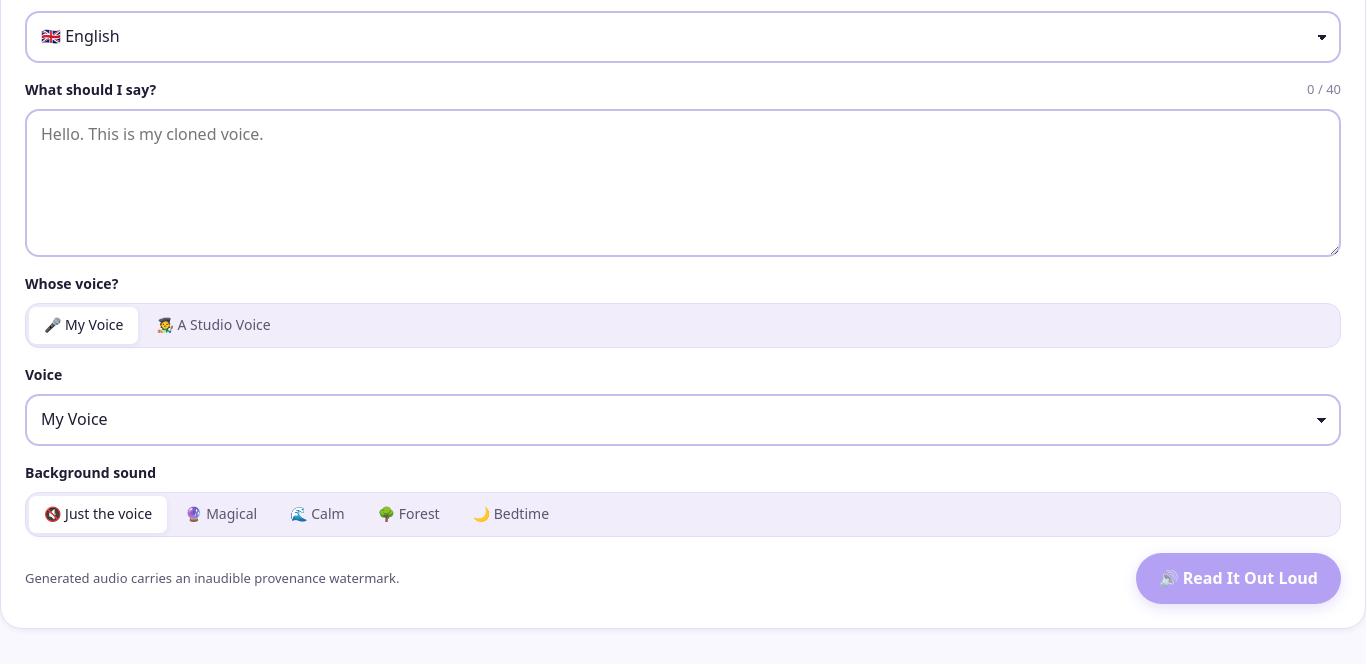
Test: GenerateForm › generates speech and shows the result with a download link
The width and height of the screenshot is (1366, 664).
Type "Hello there." into the text box with test id "text-input" at (683, 183), box [25, 109, 1341, 257]
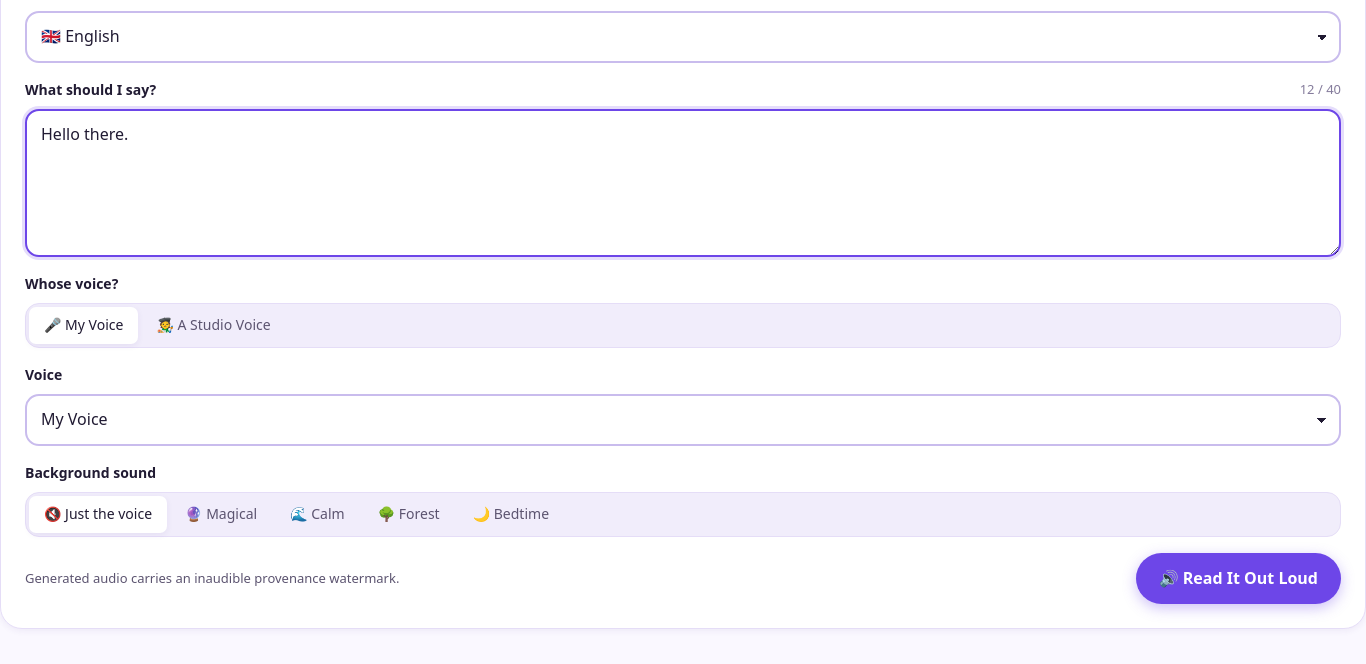
Click the button with test id "generate-submit" at (1238, 578), box [1136, 553, 1341, 604]
(page scrolled)
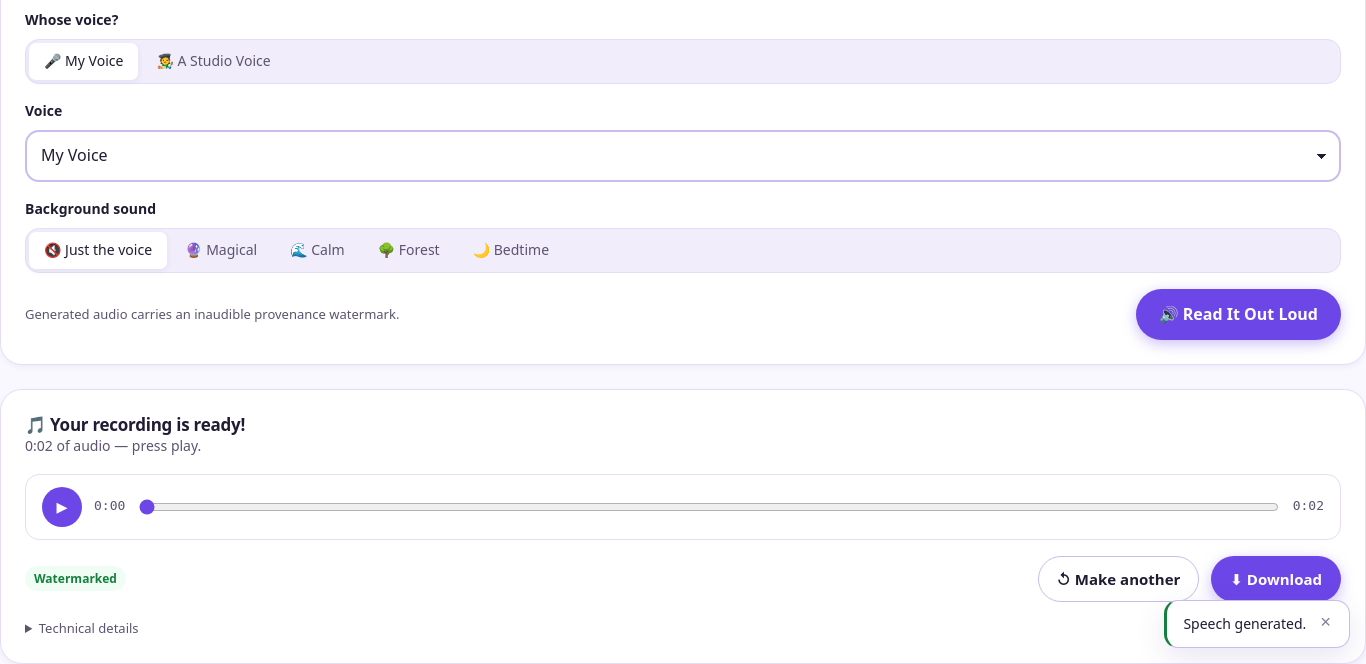
Now the element with test id "generation-result" is shown, box [25, 474, 1341, 639]
Now the element with test id "audio-player" is shown, box [25, 474, 1341, 540]
Now the text "Watermarked" is shown, box [25, 566, 126, 591]
